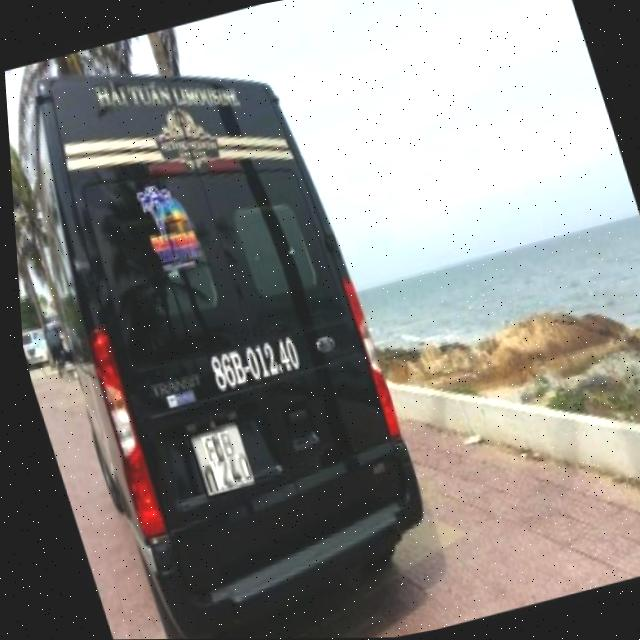car: (7, 65, 461, 640)
plate: (181, 417, 264, 500)
